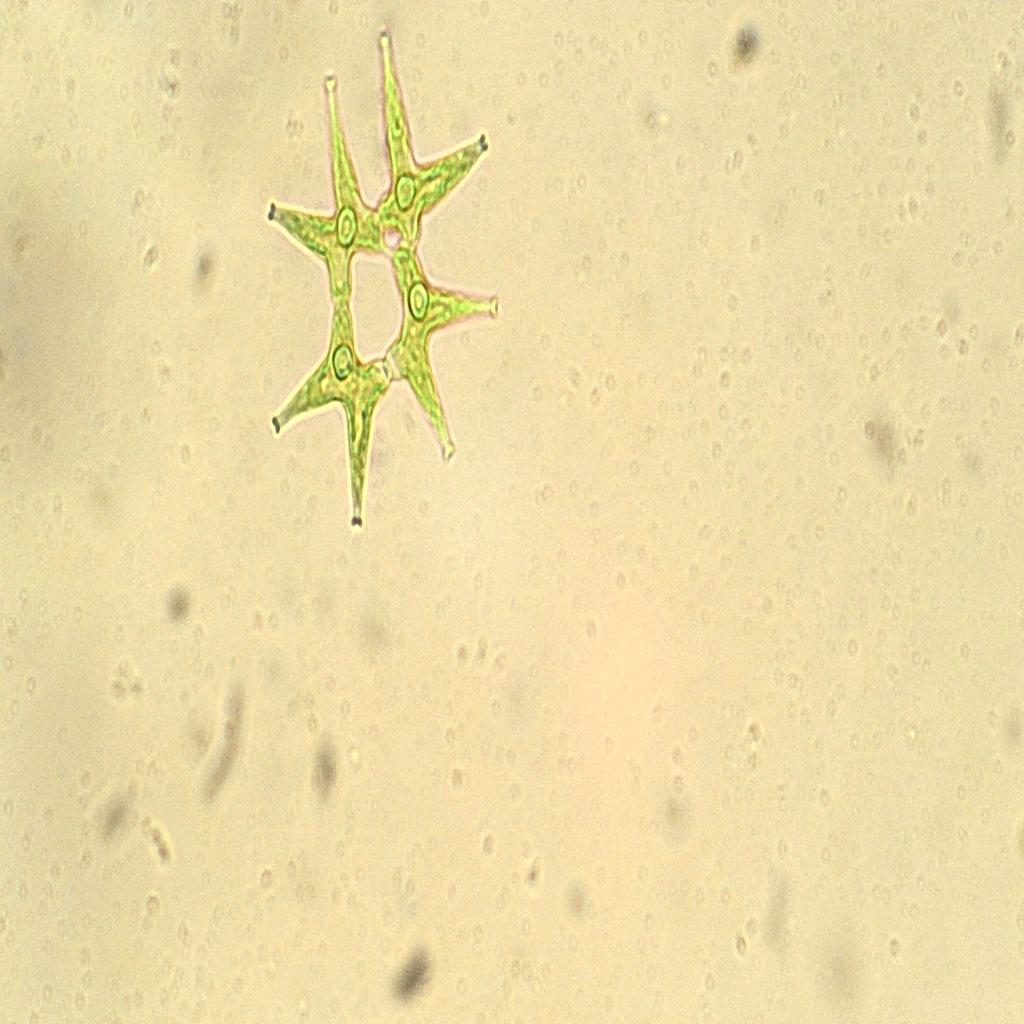Pediastrum_CF: (255, 26, 511, 541)
